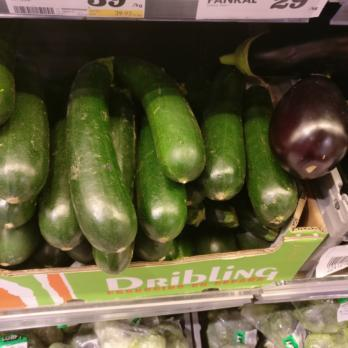Cucumber: (0, 56, 256, 266)
